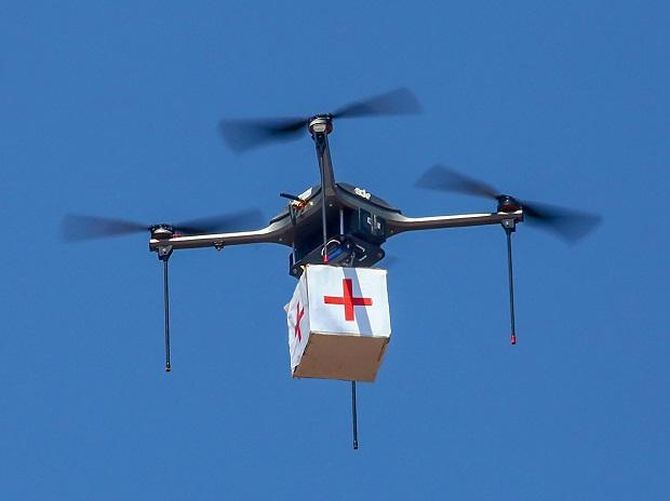drone: (51, 85, 605, 458)
